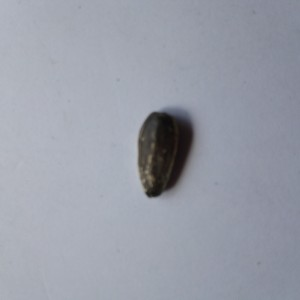girasol: (133, 109, 188, 203)
